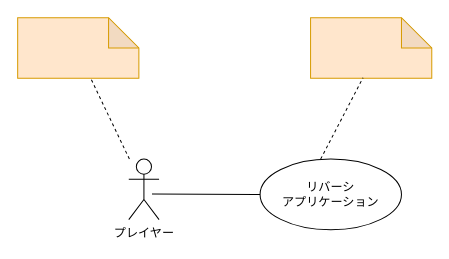
This 449x259 diagram has some shape labels left out. Each missing label, with the box of its shape:
Webアプリ: (310, 17, 432, 78)
一人で黒白交互に 打つ: (17, 17, 139, 78)
